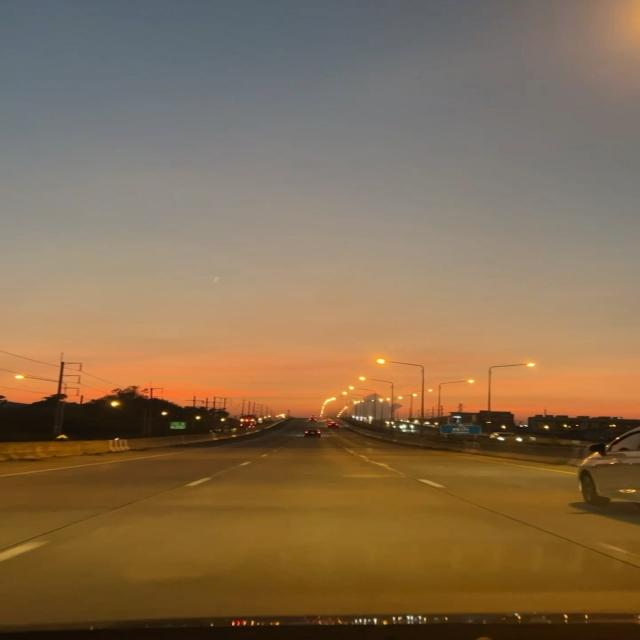Poth-hole: (92, 468, 534, 582)
